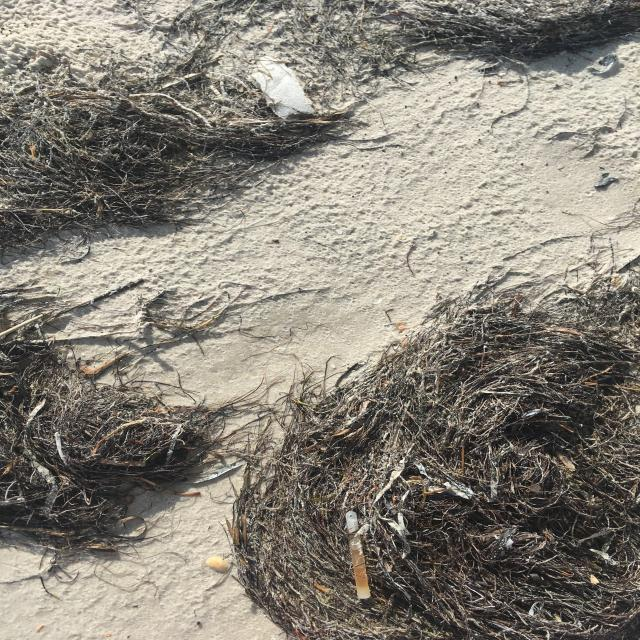litter: (249, 55, 315, 119), (90, 418, 146, 466), (346, 511, 372, 599)
